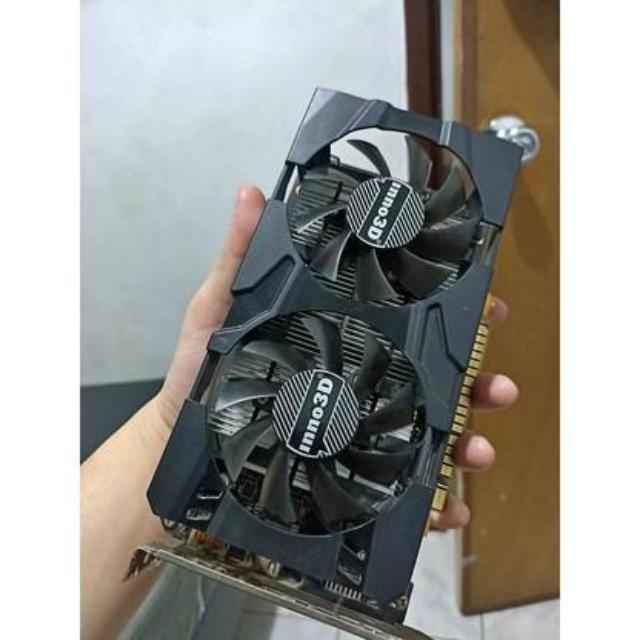GPU: (154, 85, 503, 640)
